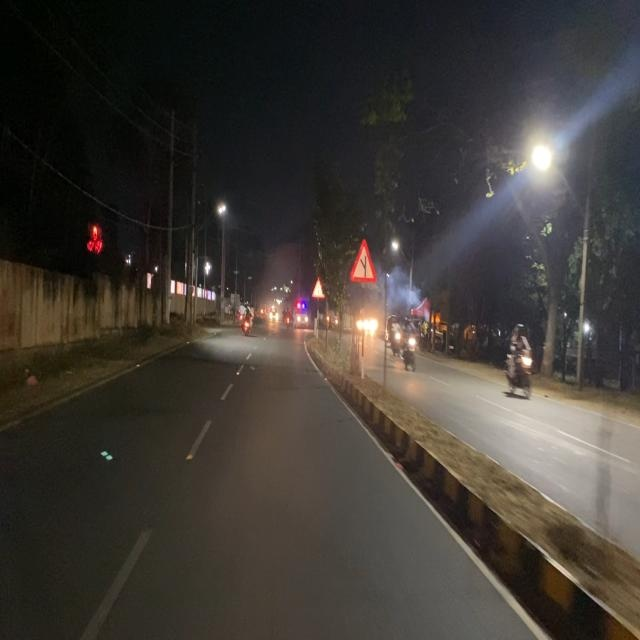bien_nguy_hiem: (349, 238, 377, 284)
